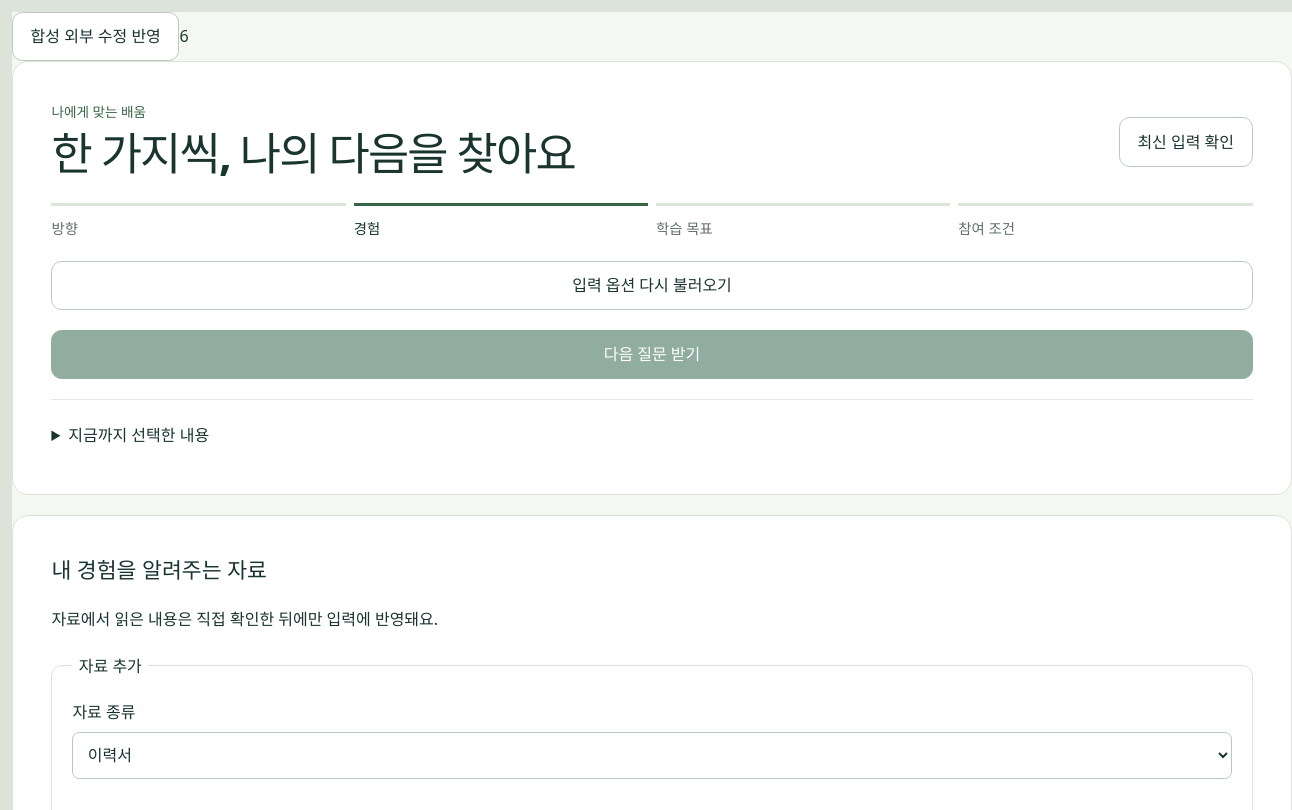
Test: 이전 답변 수정·입력 보존 › 오래된 GET 응답 후 복구에도 최신 revision을 유지한다
Click the button "최신 입력 확인": (1186, 142) [1119,117,1253,167]
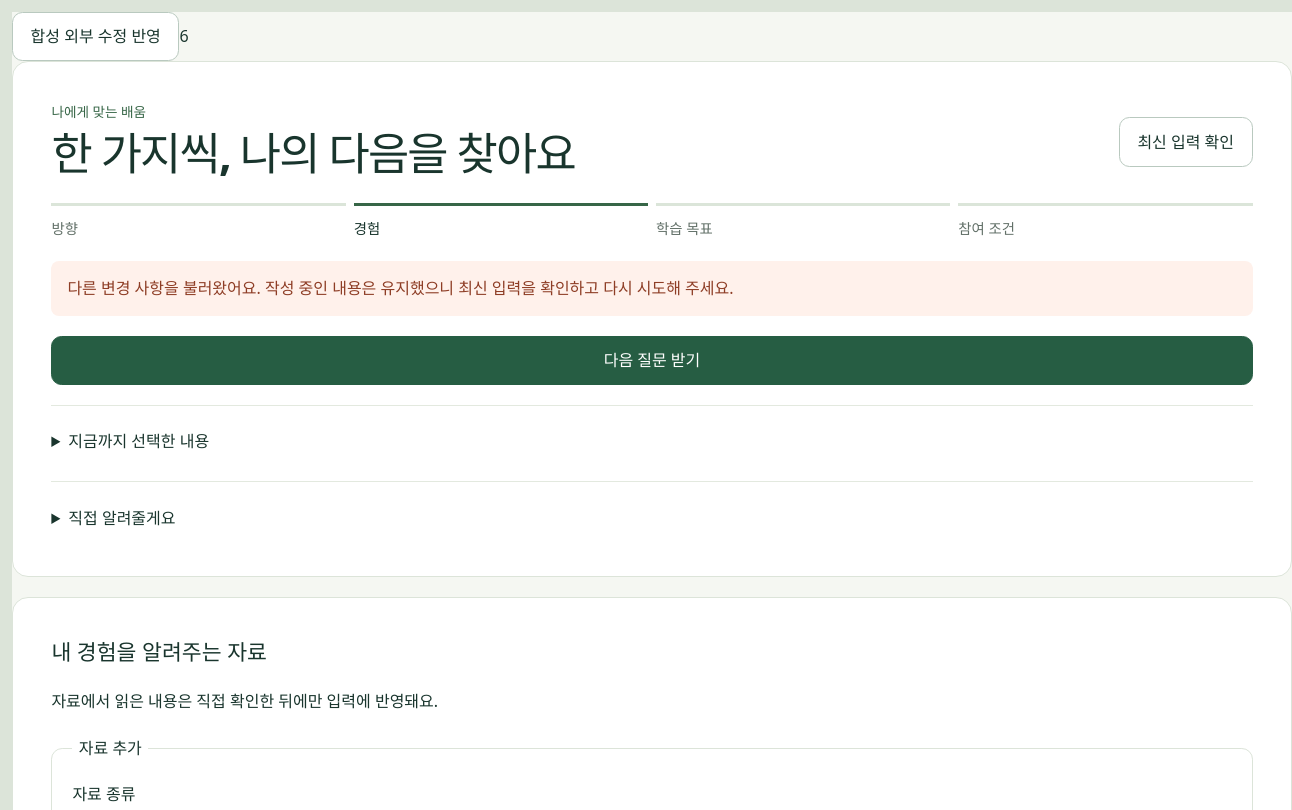
Expected: the text named "검사용 현재 버전" reads "6", [179,25,189,47]
Expected: the message "다른 변경 사항을 불러왔어요. 작성 중인 내용은 유지했으니 최신 입력을 확인하고 다시 시도해 주세요." is shown, [51,261,1253,316]
